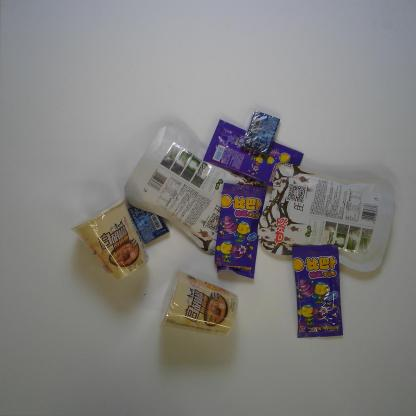Candy: (202, 118, 304, 188), (214, 182, 267, 279), (291, 244, 344, 339)
Dried Fruit: (122, 124, 250, 256), (256, 161, 393, 275)
Gum: (240, 110, 280, 155), (128, 204, 170, 245)
Instant Noodles: (69, 195, 151, 282), (158, 268, 239, 338)
